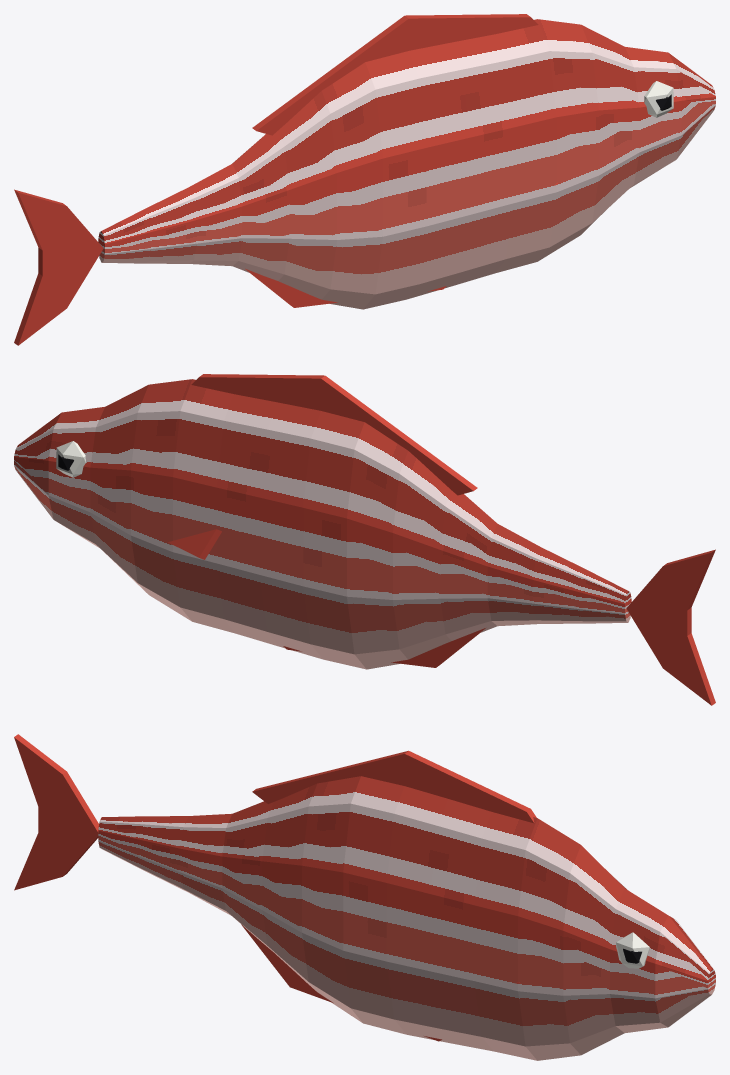
File: squirrelfish.glb
3 renders of one model, top to bottom at view 1: azimuth 30°, elevation 25°; view 2: azimuth 150°, elevation 25°; view 3: azimuth 330°, elevation 25°, orthographic.
Visible parts, largest first — view 1: fish_squirrelfish; view 2: fish_squirrelfish; view 3: fish_squirrelfish.
Boxes of the visible parts, left/top/right/bottom form: fish_squirrelfish: left=14, top=14, right=715, bottom=345; fish_squirrelfish: left=14, top=374, right=715, bottom=705; fish_squirrelfish: left=14, top=734, right=715, bottom=1060.
Bounding box in the file's own units: 1.14 × 0.4423 × 0.1417.
4 materials, 1 textured.
